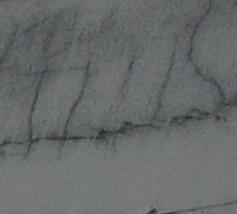fissura: (3, 0, 237, 169)
